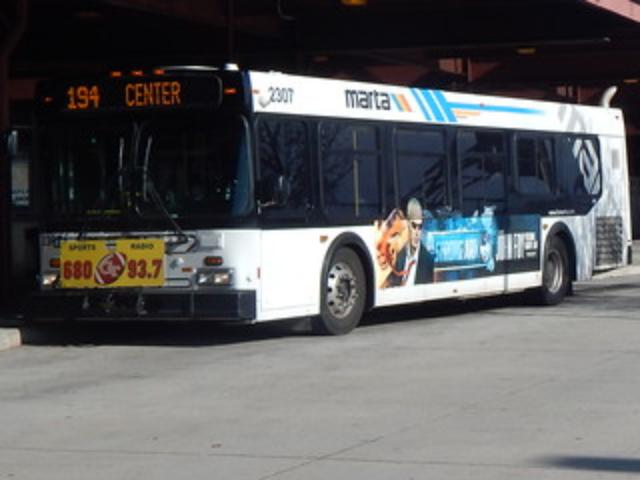bus: (36, 62, 634, 336)
